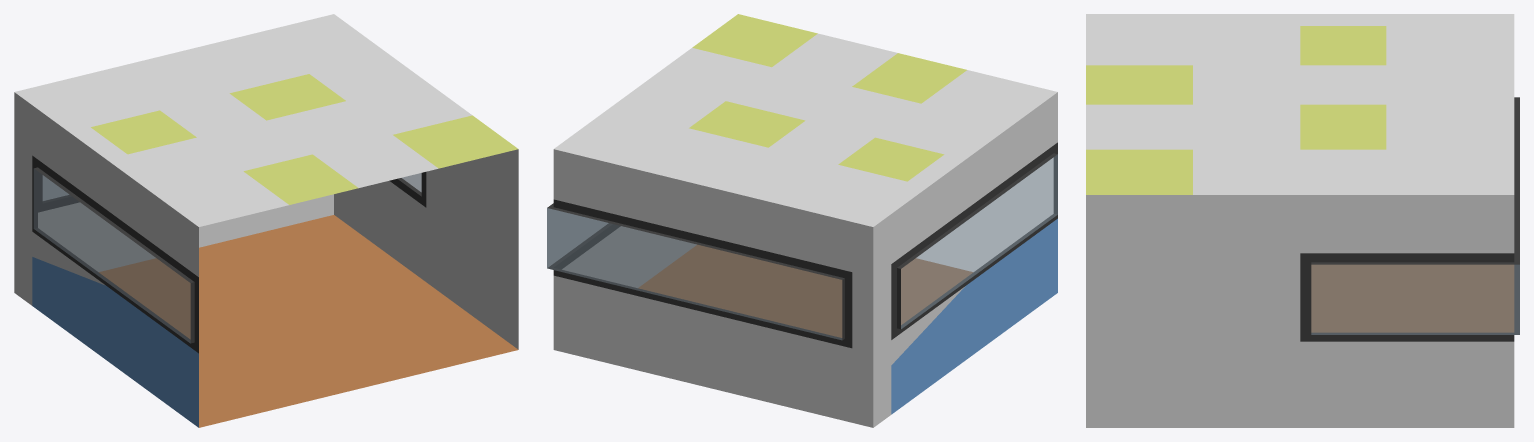
Rendered from office.fbx.
3 views of the same model, side by side, from view 1: azimuth 30°, elevation 25°; view 2: azimuth 150°, elevation 25°; view 3: azimuth 270°, elevation 25° (orthographic). The views are drawn at different scales.
Parts seen in each view (by area): view 1: Office; view 2: Office; view 3: Office.
Part boxes in pixels (<box>): Office: <box>14,14,518,427</box>; Office: <box>547,14,1057,427</box>; Office: <box>1086,14,1519,427</box>.
Size of the model in its own units: 397 by 232 by 392.
